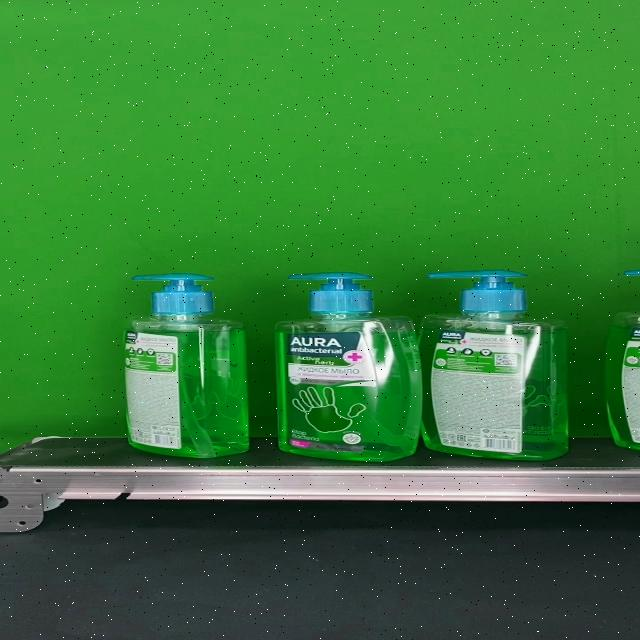Bottle: (418, 270, 569, 461), (274, 272, 422, 461), (121, 273, 250, 458)
Cap: (426, 270, 529, 313), (287, 272, 375, 313), (132, 273, 216, 314)
